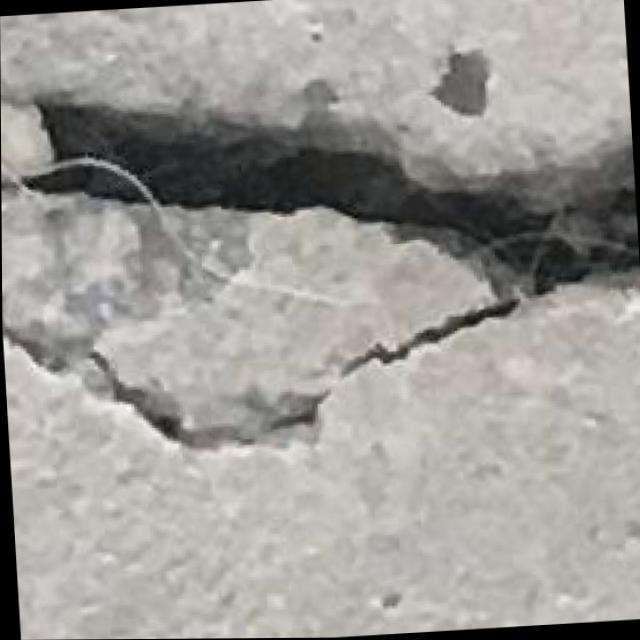Crack: (0, 32, 640, 489)
